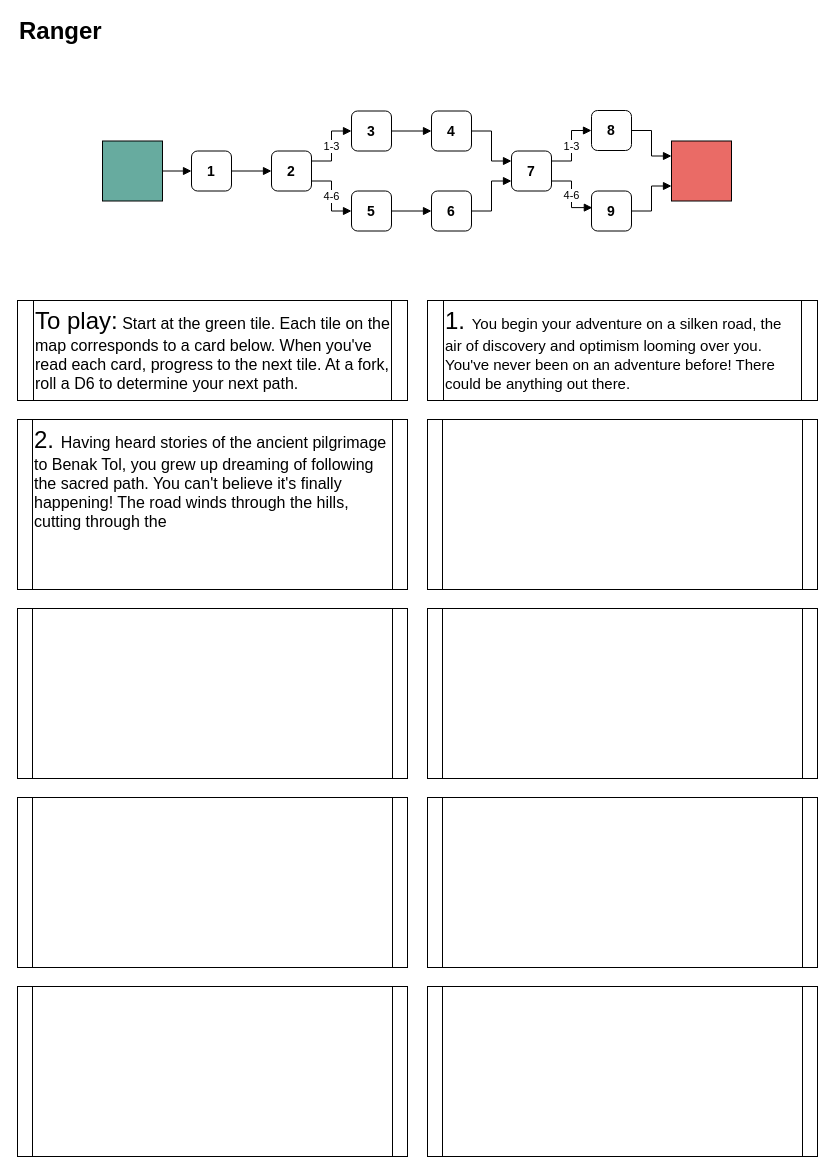
Image size: 835x1174. Some labels were removed from this diagram. Here are the shapes that lost their labels. From the top down, the centre of each, then its label:
At point (132, 170): "Start".
At point (701, 170): "Finish".
